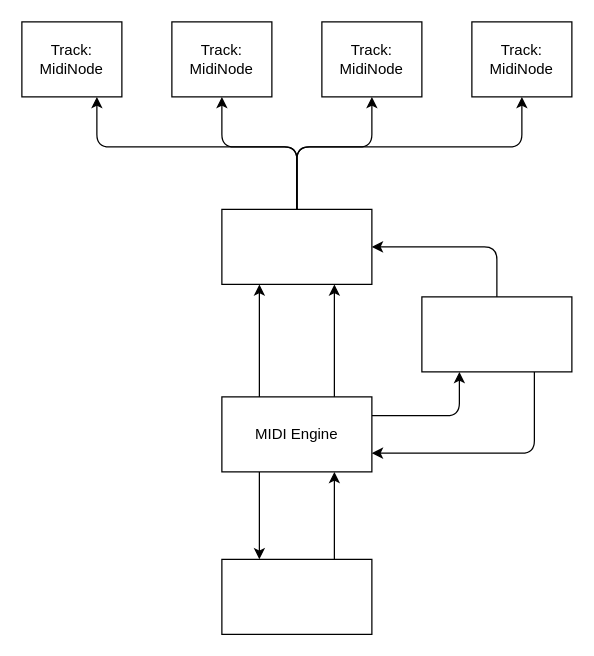
This 594x656 diagram has some shape labels left out. The centre of each missing label's shape, as x and y in pixels:
MIDI Device: the point at 296,596
MidiRouter: MidiNode: the point at 296,246
MidiScripHandler: the point at 496,334
